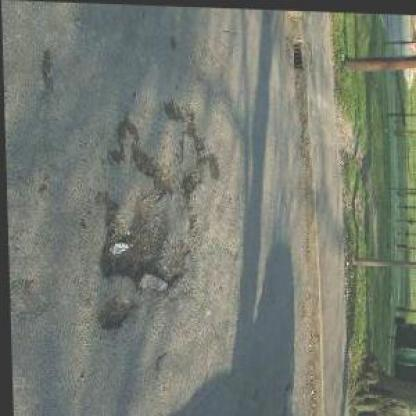pothole: (93, 191, 194, 290), (130, 144, 172, 194), (95, 292, 134, 333)
